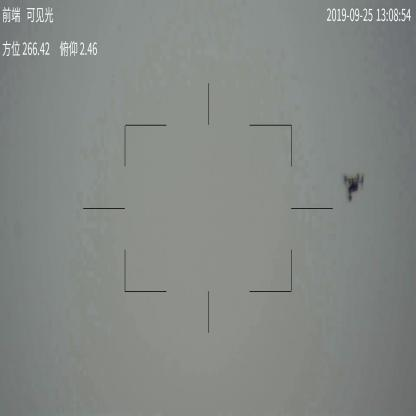uav: (345, 171, 368, 201)
